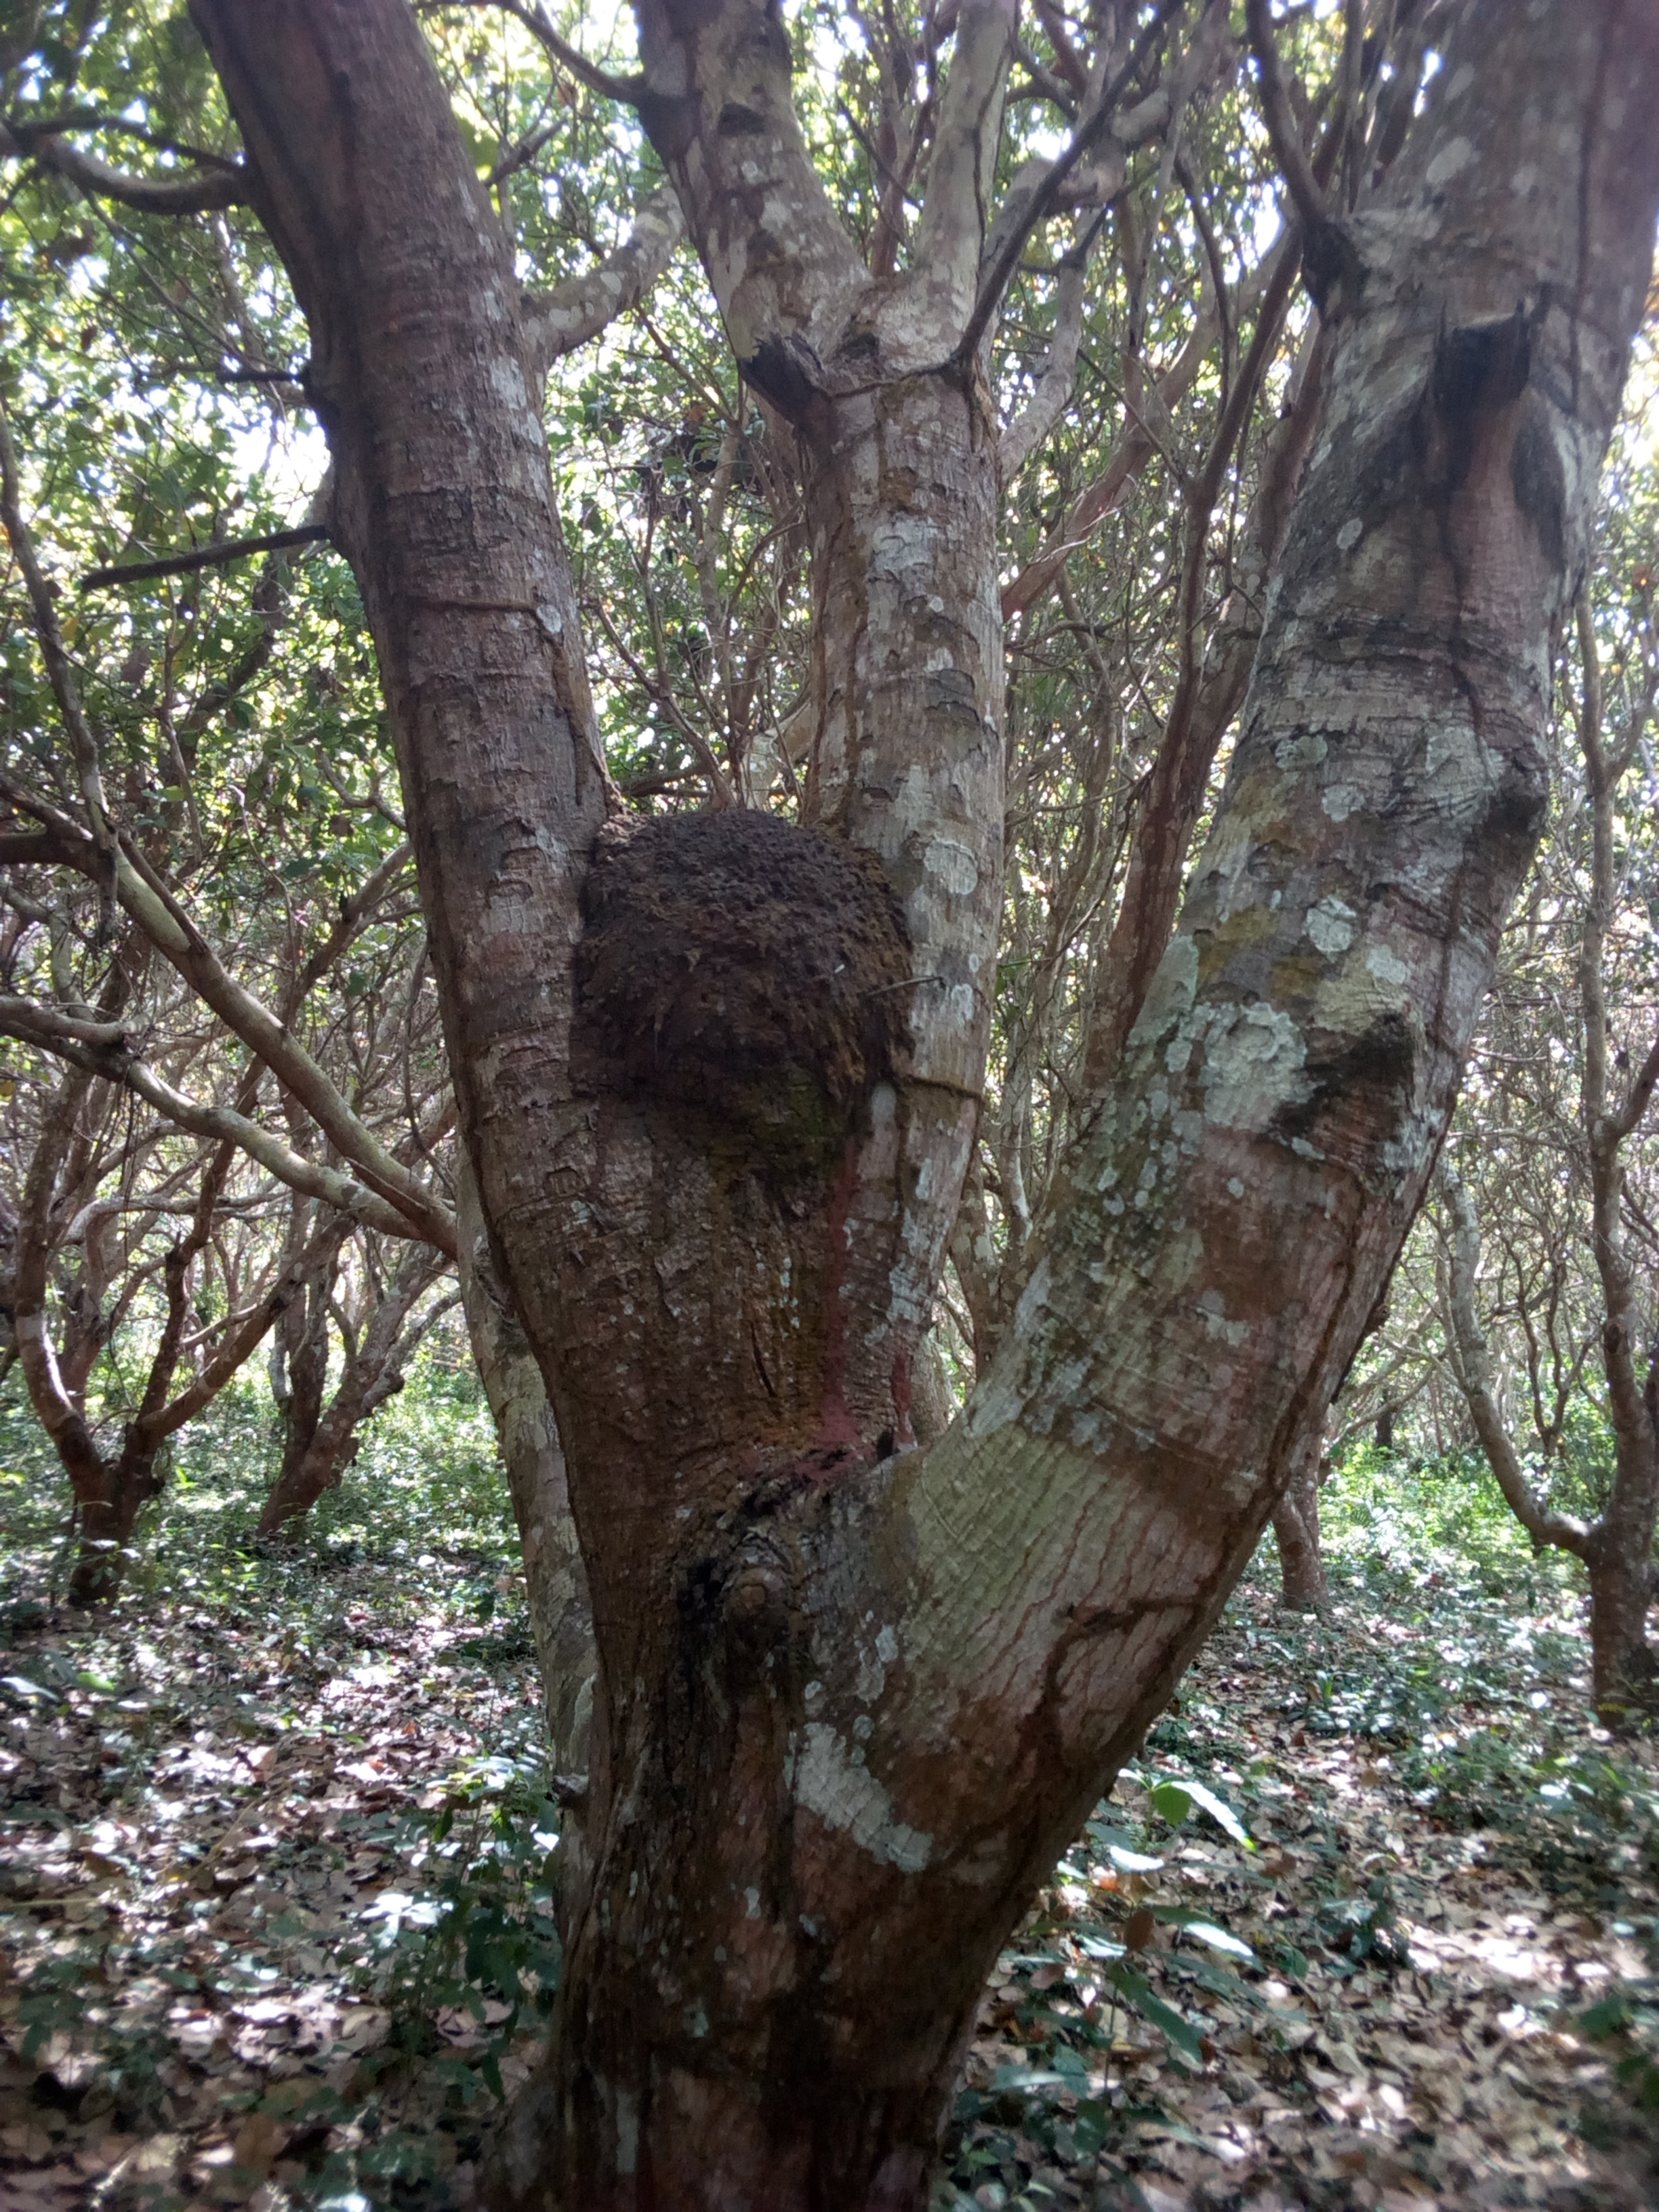Termites: (579, 791, 924, 1153), (847, 1604, 1023, 2088)
